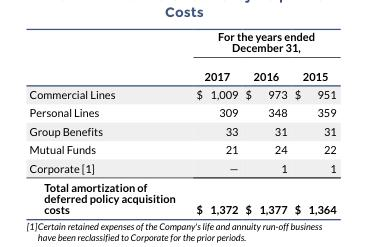table: (28, 29, 335, 215)
table column: (28, 29, 185, 215), (185, 29, 241, 215), (241, 29, 290, 215), (290, 29, 335, 215)
table column header: (28, 29, 335, 84)
table row: (28, 177, 335, 215), (28, 29, 335, 61), (28, 61, 335, 84), (28, 84, 335, 103), (28, 139, 335, 158), (28, 158, 335, 177), (28, 103, 335, 121), (28, 121, 335, 139)
table spanning cell: (185, 29, 335, 61)
